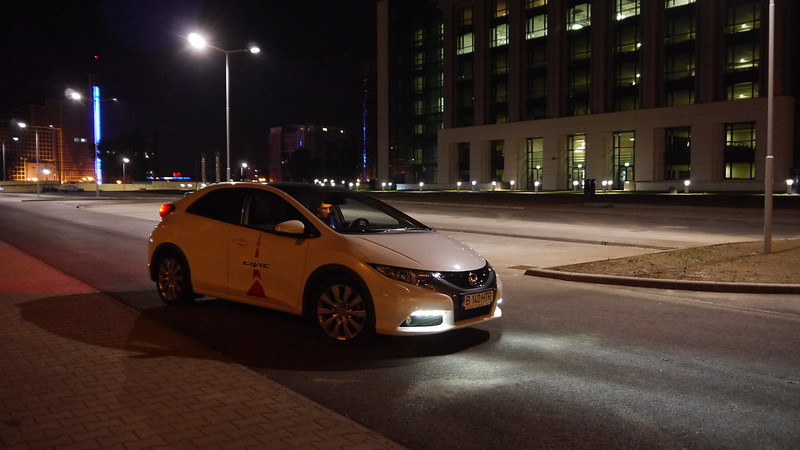car: (140, 180, 512, 354)
